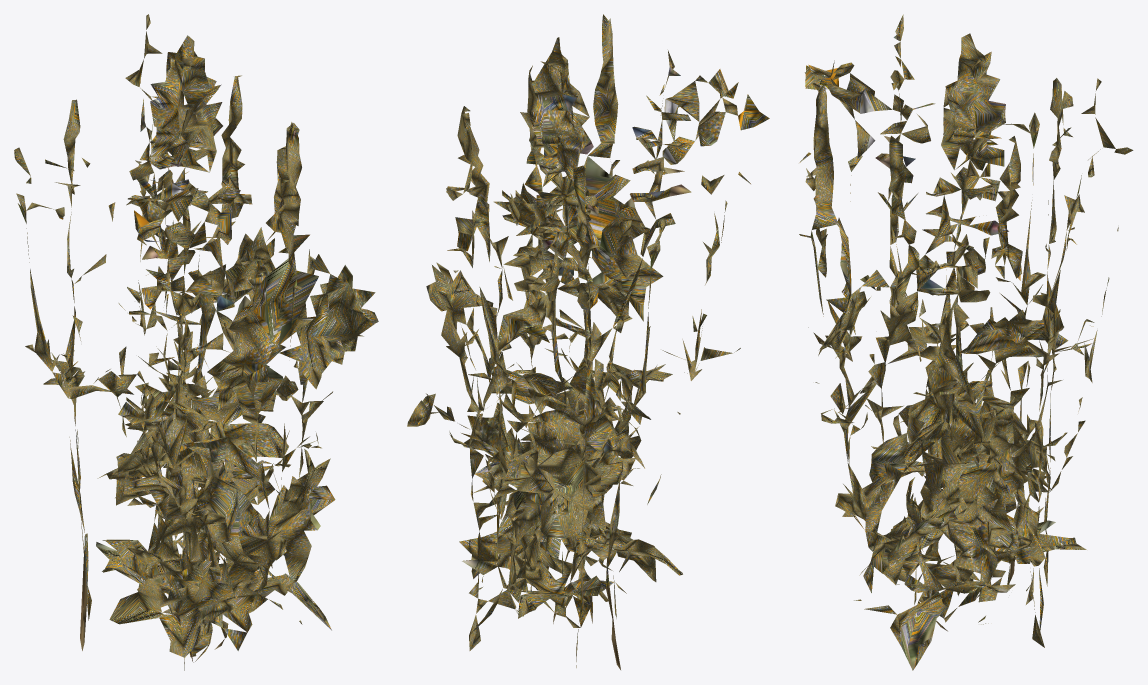
File: botanical.glb
3 views of the same model, side by side, from view 1: azimuth 30°, elevation 25°; view 2: azimuth 150°, elevation 25°; view 3: azimuth 270°, elevation 25° (orthographic). The views are drawn at different scales.
Size of the model in its own units: 0.3636 by 0.8 by 0.411.
Materials: 1 (1 with a texture image).
